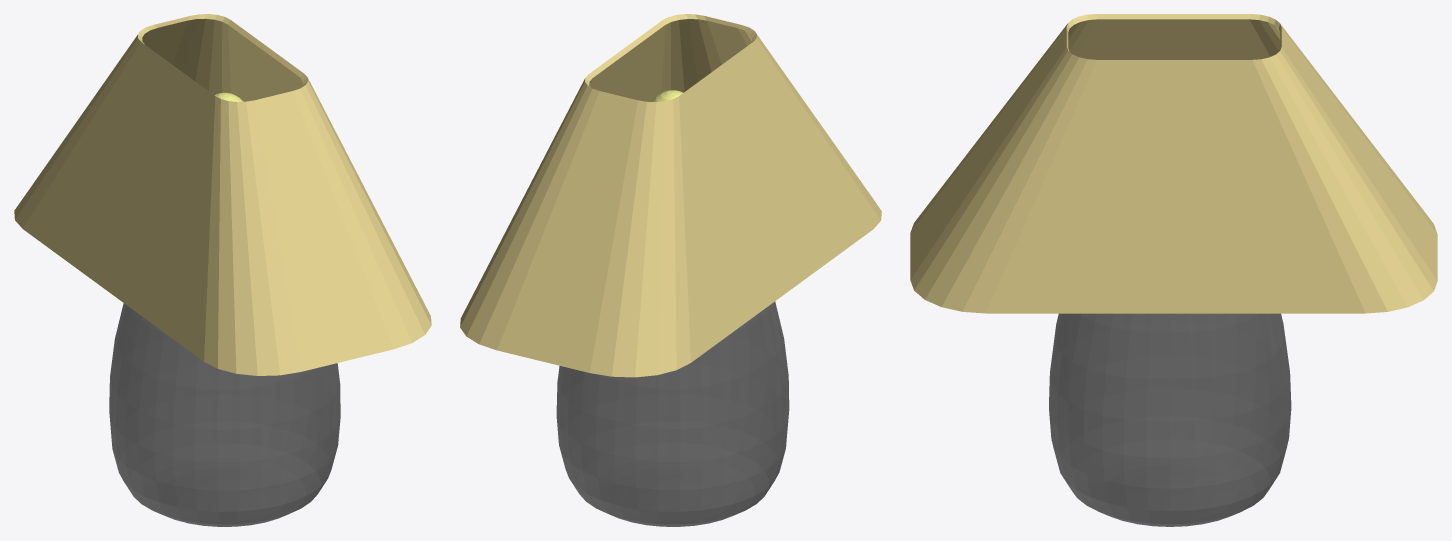
File: abajur_mesa.fbx
3 views of the same model, side by side, from view 1: azimuth 30°, elevation 25°; view 2: azimuth 150°, elevation 25°; view 3: azimuth 270°, elevation 25° (orthographic). The views are drawn at different scales.
Visible parts, largest first — view 1: candieiro_mesa; view 2: candieiro_mesa; view 3: candieiro_mesa.
Boxes of the visible parts, x1=… form: candieiro_mesa: x1=14, y1=14, x2=431, y2=526; candieiro_mesa: x1=460, y1=14, x2=881, y2=526; candieiro_mesa: x1=910, y1=14, x2=1437, y2=526.
Size of the model in its own units: 0.2747 by 0.5191 by 0.5436.
